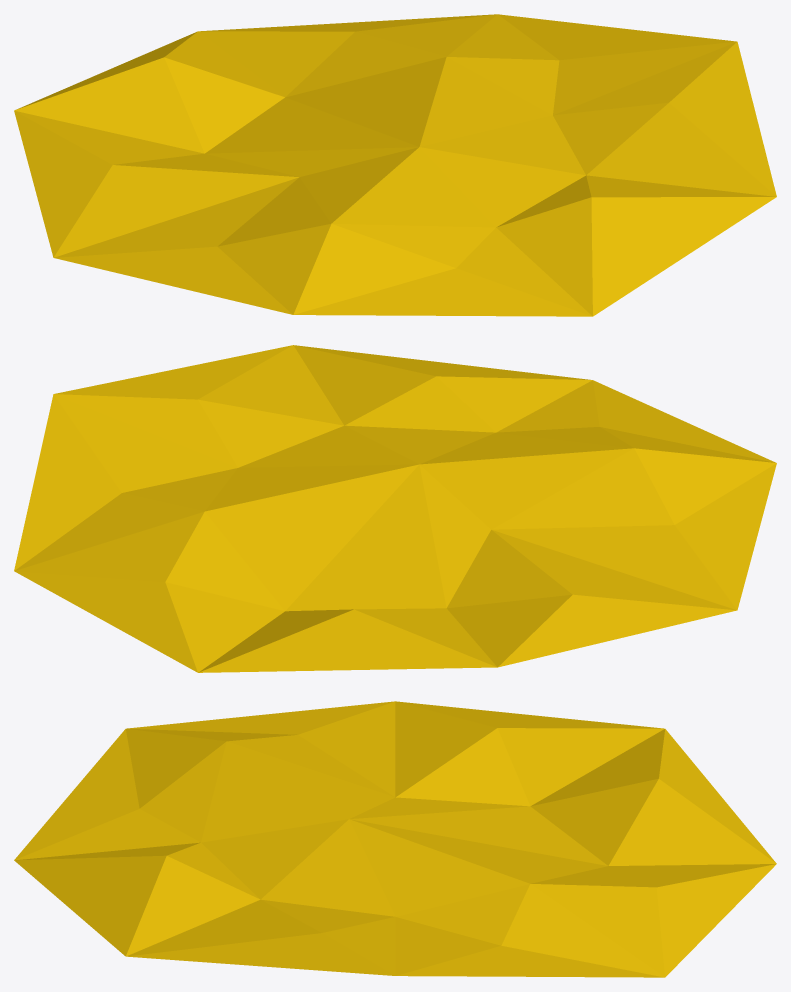
The model's file is lava.fbx.
The picture shows the model from 3 angles, top to bottom: view 1: azimuth 30°, elevation 25°; view 2: azimuth 150°, elevation 25°; view 3: azimuth 270°, elevation 25°; orthographic projection. The views are drawn at different scales.
Visible parts, largest first — view 1: pCylinder1; view 2: pCylinder1; view 3: pCylinder1.
Part boxes in pixels (x1,y1,x2,y2): pCylinder1: (14, 14, 776, 316); pCylinder1: (14, 345, 776, 672); pCylinder1: (14, 701, 776, 977).
Size of the model in its own units: 0.1567 by 0.0121 by 0.1567.
